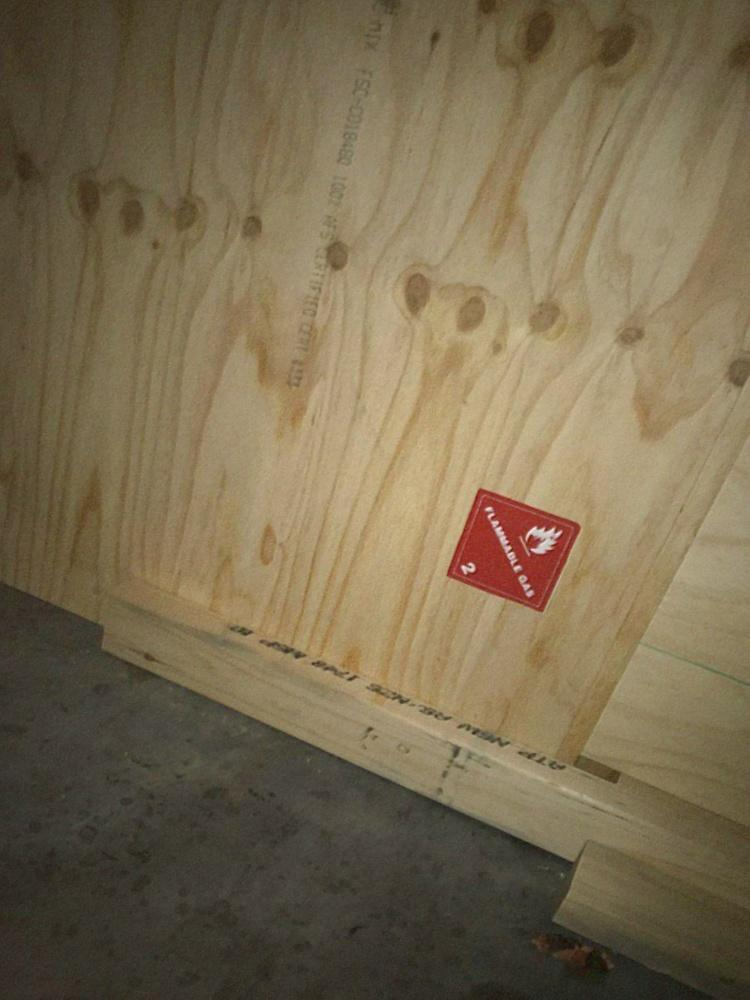flammable: (445, 485, 581, 620)
